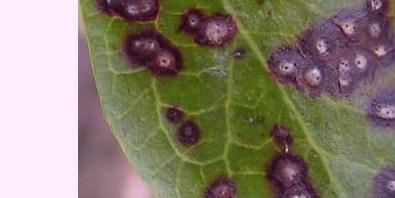Tomato Septoria leaf spot: (80, 0, 395, 198)
